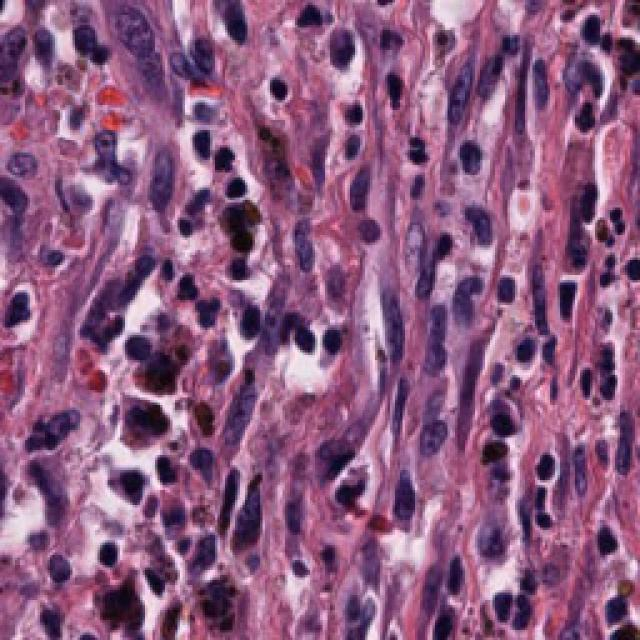abnormal: (6, 383, 95, 474), (405, 399, 470, 485), (131, 131, 185, 229), (68, 120, 135, 197), (0, 12, 51, 112), (213, 478, 282, 549), (102, 1, 180, 62)
